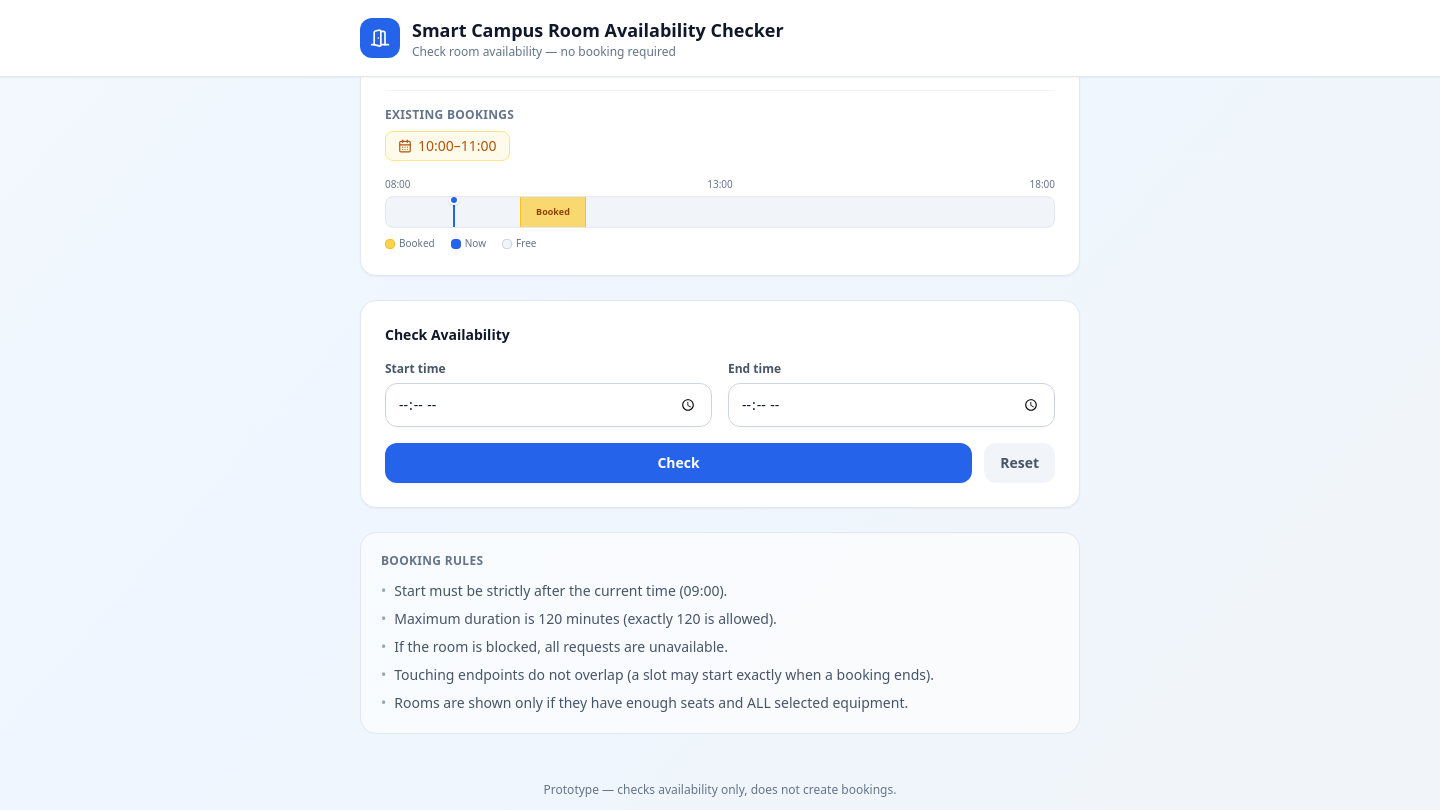
it: Mitigation 1 — current time is 09:00 (literal, no NOW_MIN import) › Room 204, 09:00–09:30 is Unavailable (start equals now)
The image size is (1440, 810).
(page scrolled)
Type "09:00" into the time field labelled "Start time" at (548, 405), box left=385, top=383, right=712, bottom=427
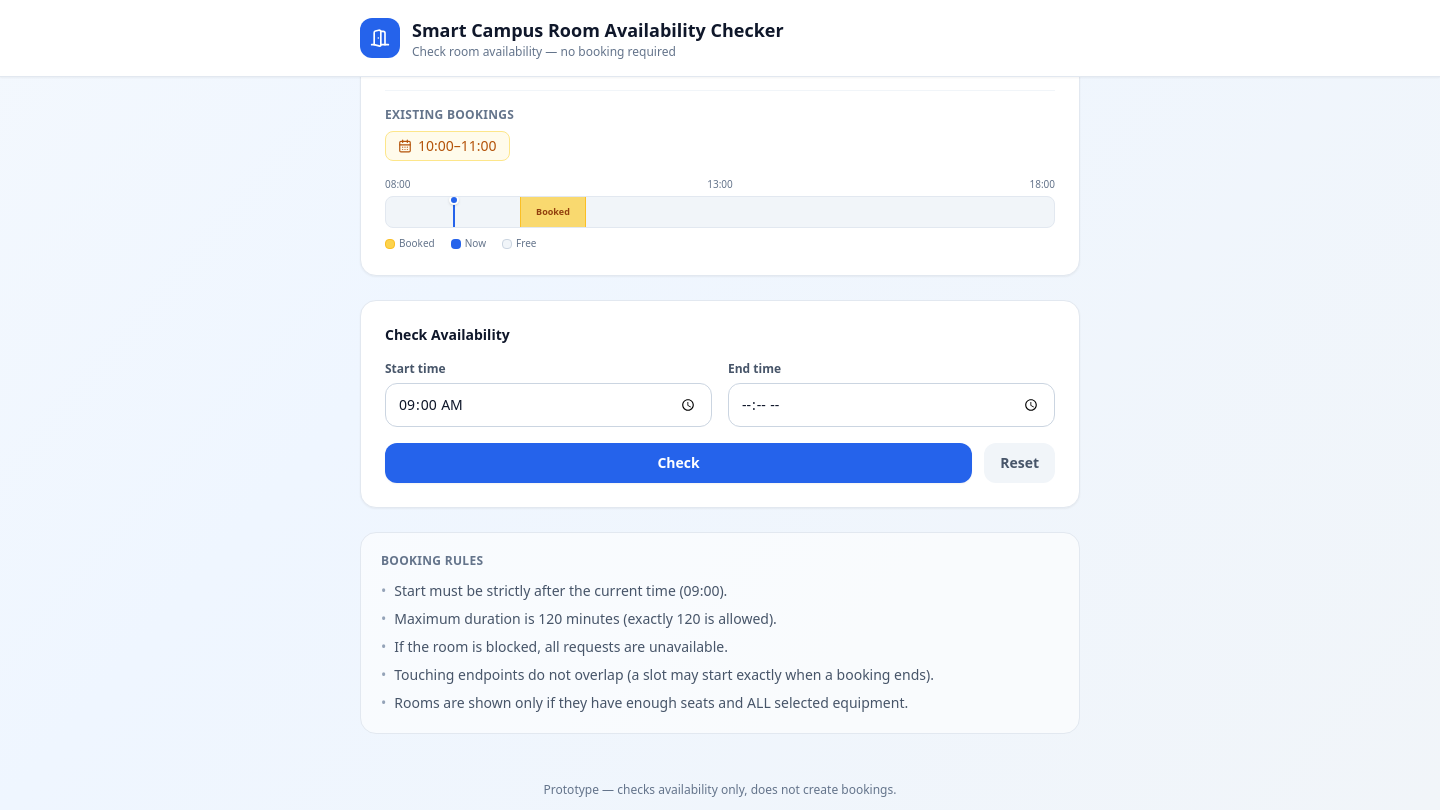
Type "09:30" into the time field labelled "End time" at (892, 405), box left=728, top=383, right=1055, bottom=427
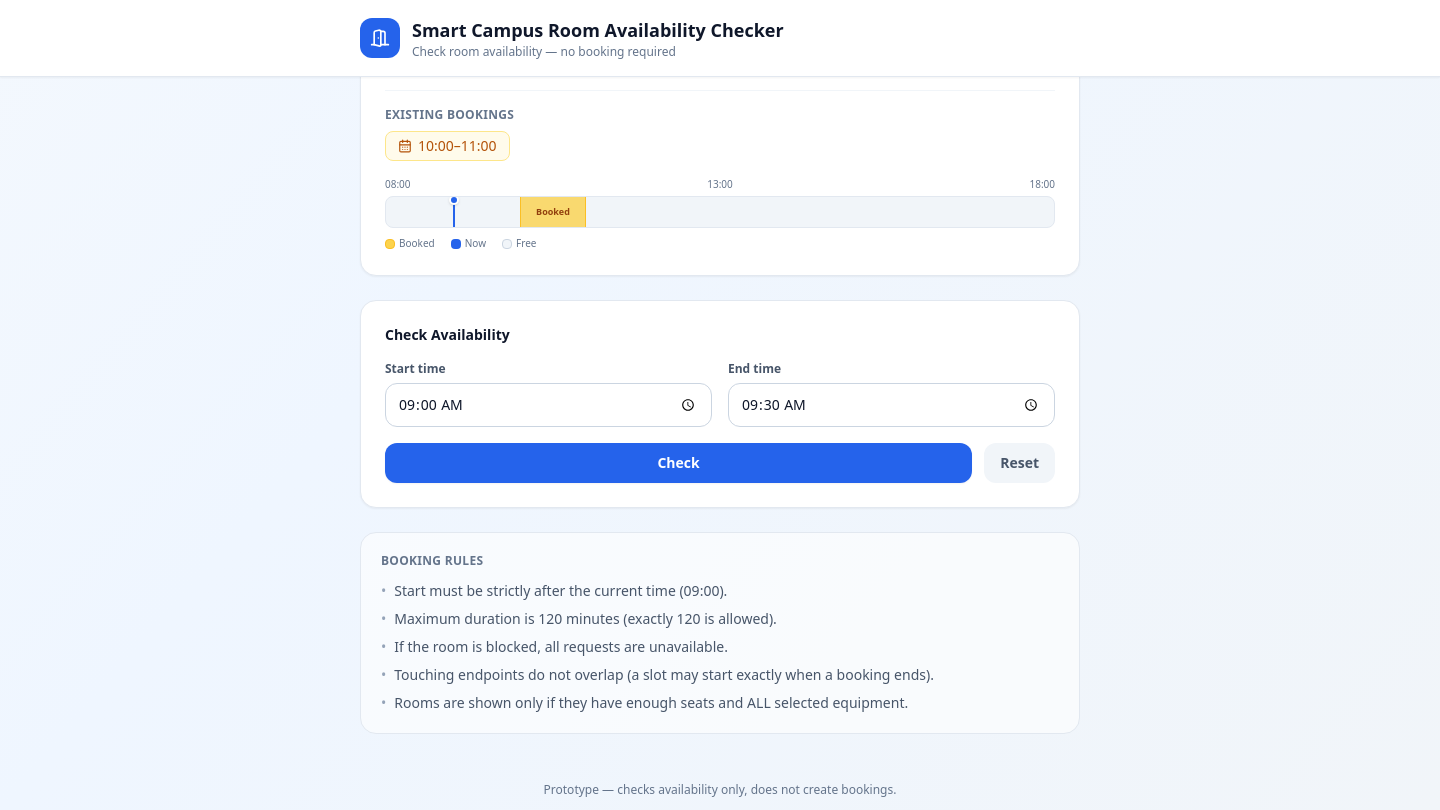
Click the button "Check" at (679, 463), box left=385, top=443, right=972, bottom=483
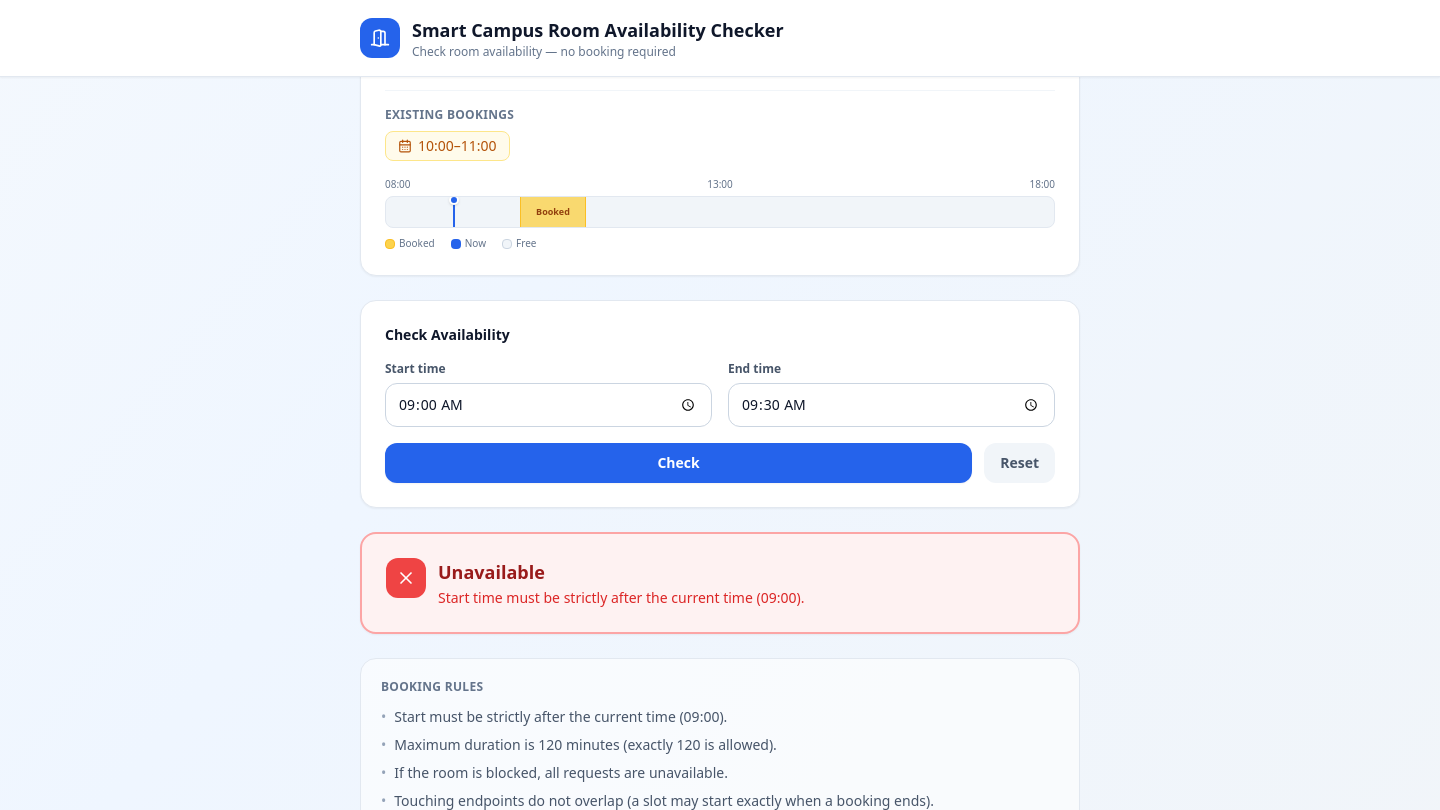
Expected: the heading "Unavailable" is shown, left=438, top=560, right=545, bottom=584
